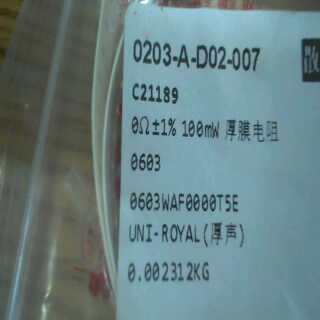0R: (128, 114, 222, 178)
